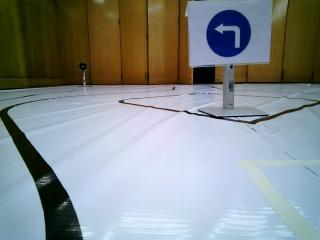left: (189, 3, 267, 64)
